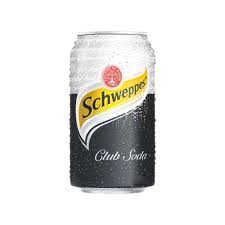can: (65, 28, 160, 199)
